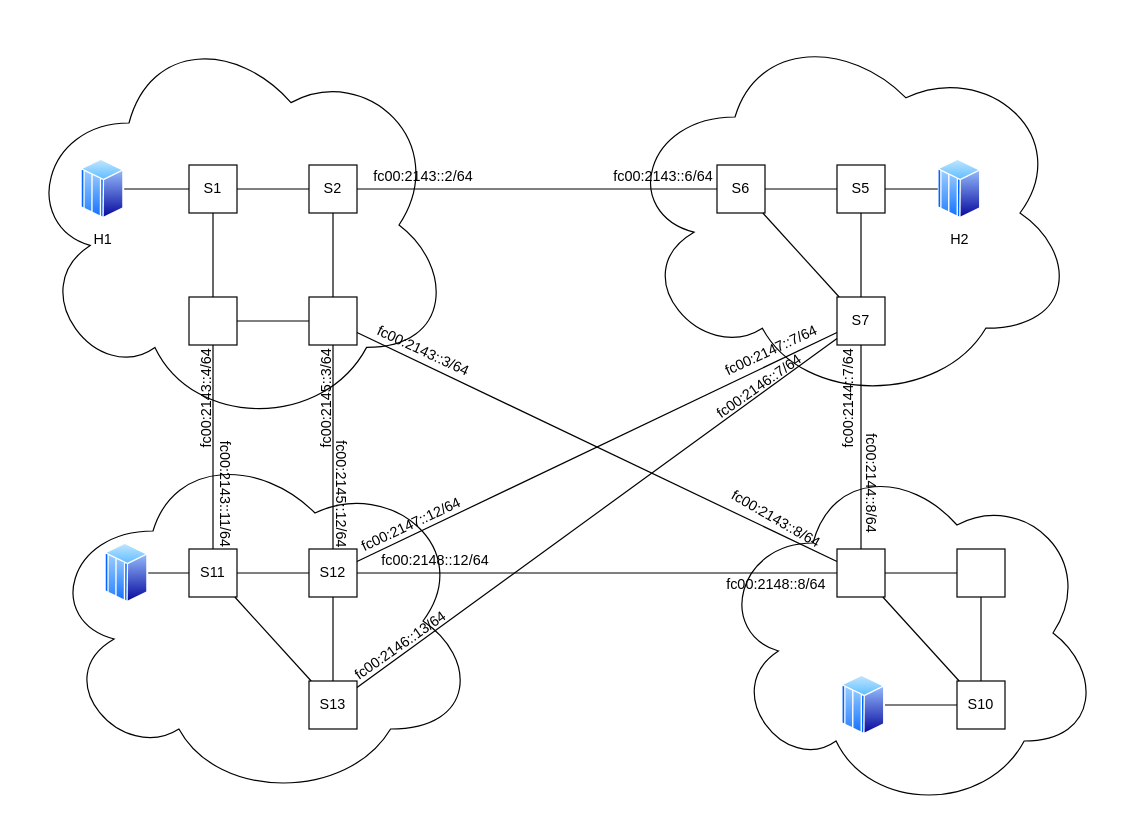
This 1122x834 diagram has some shape labels left out. Each missing label, with the centre of its shape:
"H3" goes at (862,704).
"H4" goes at (126,572).
"S3" goes at (332,320).
"S4" goes at (212,320).
"S8" goes at (860,572).
"S9" goes at (980,572).
